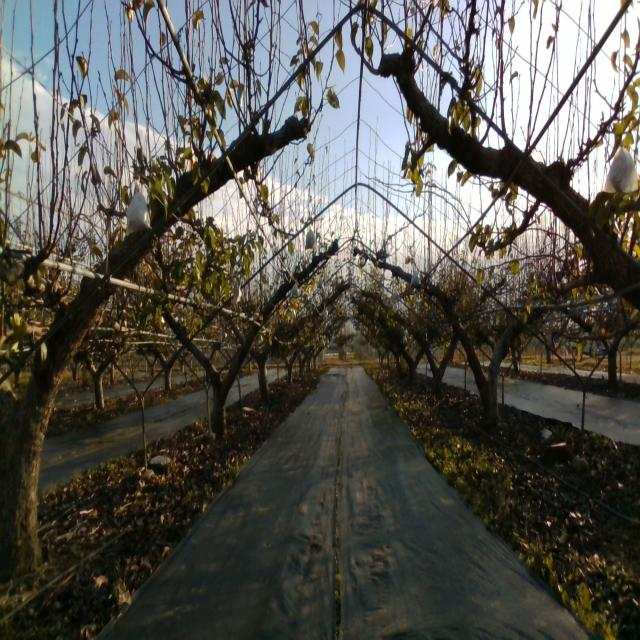pearbags: (602, 139, 640, 195), (124, 182, 153, 238), (303, 225, 317, 251), (409, 265, 422, 287)
